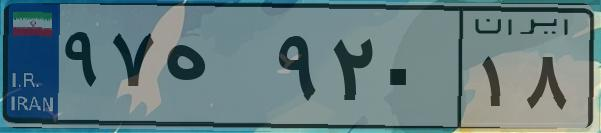0: (385, 28, 445, 110)
1: (475, 38, 525, 113)
2: (330, 28, 385, 110)
7: (110, 28, 158, 98)
8: (525, 38, 570, 115)
9: (270, 28, 330, 110), (57, 26, 110, 100)
ه: (158, 20, 270, 120)
